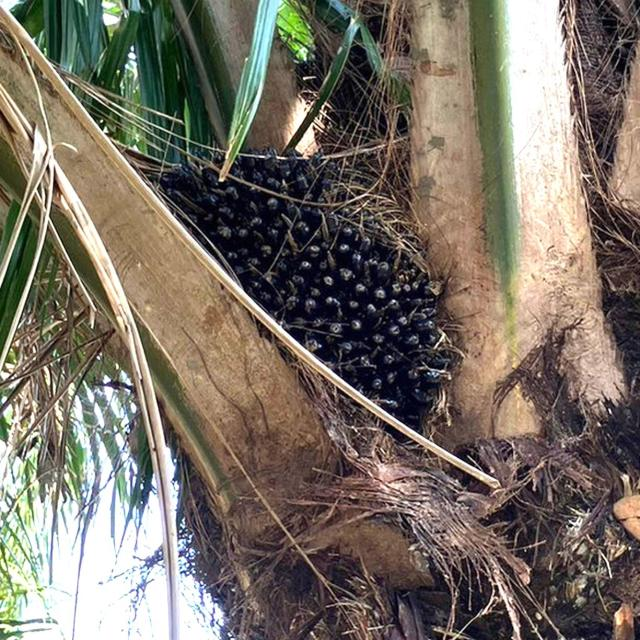unripe: (127, 135, 470, 488)
